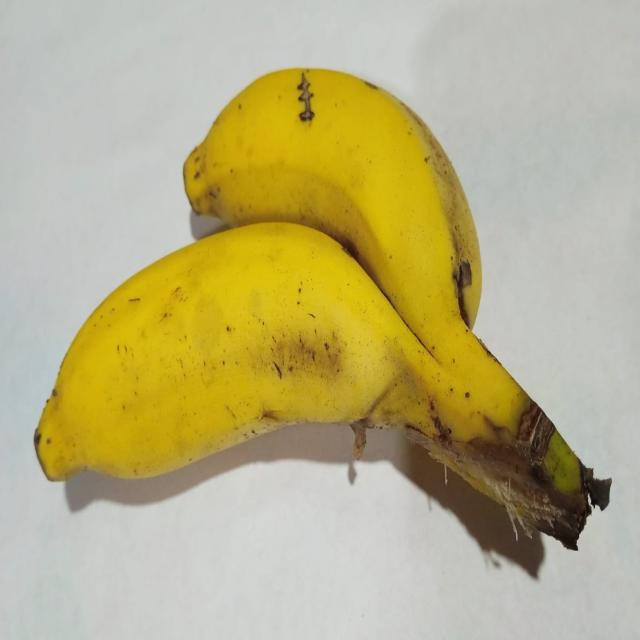banana: (35, 224, 608, 547), (184, 70, 603, 494)
